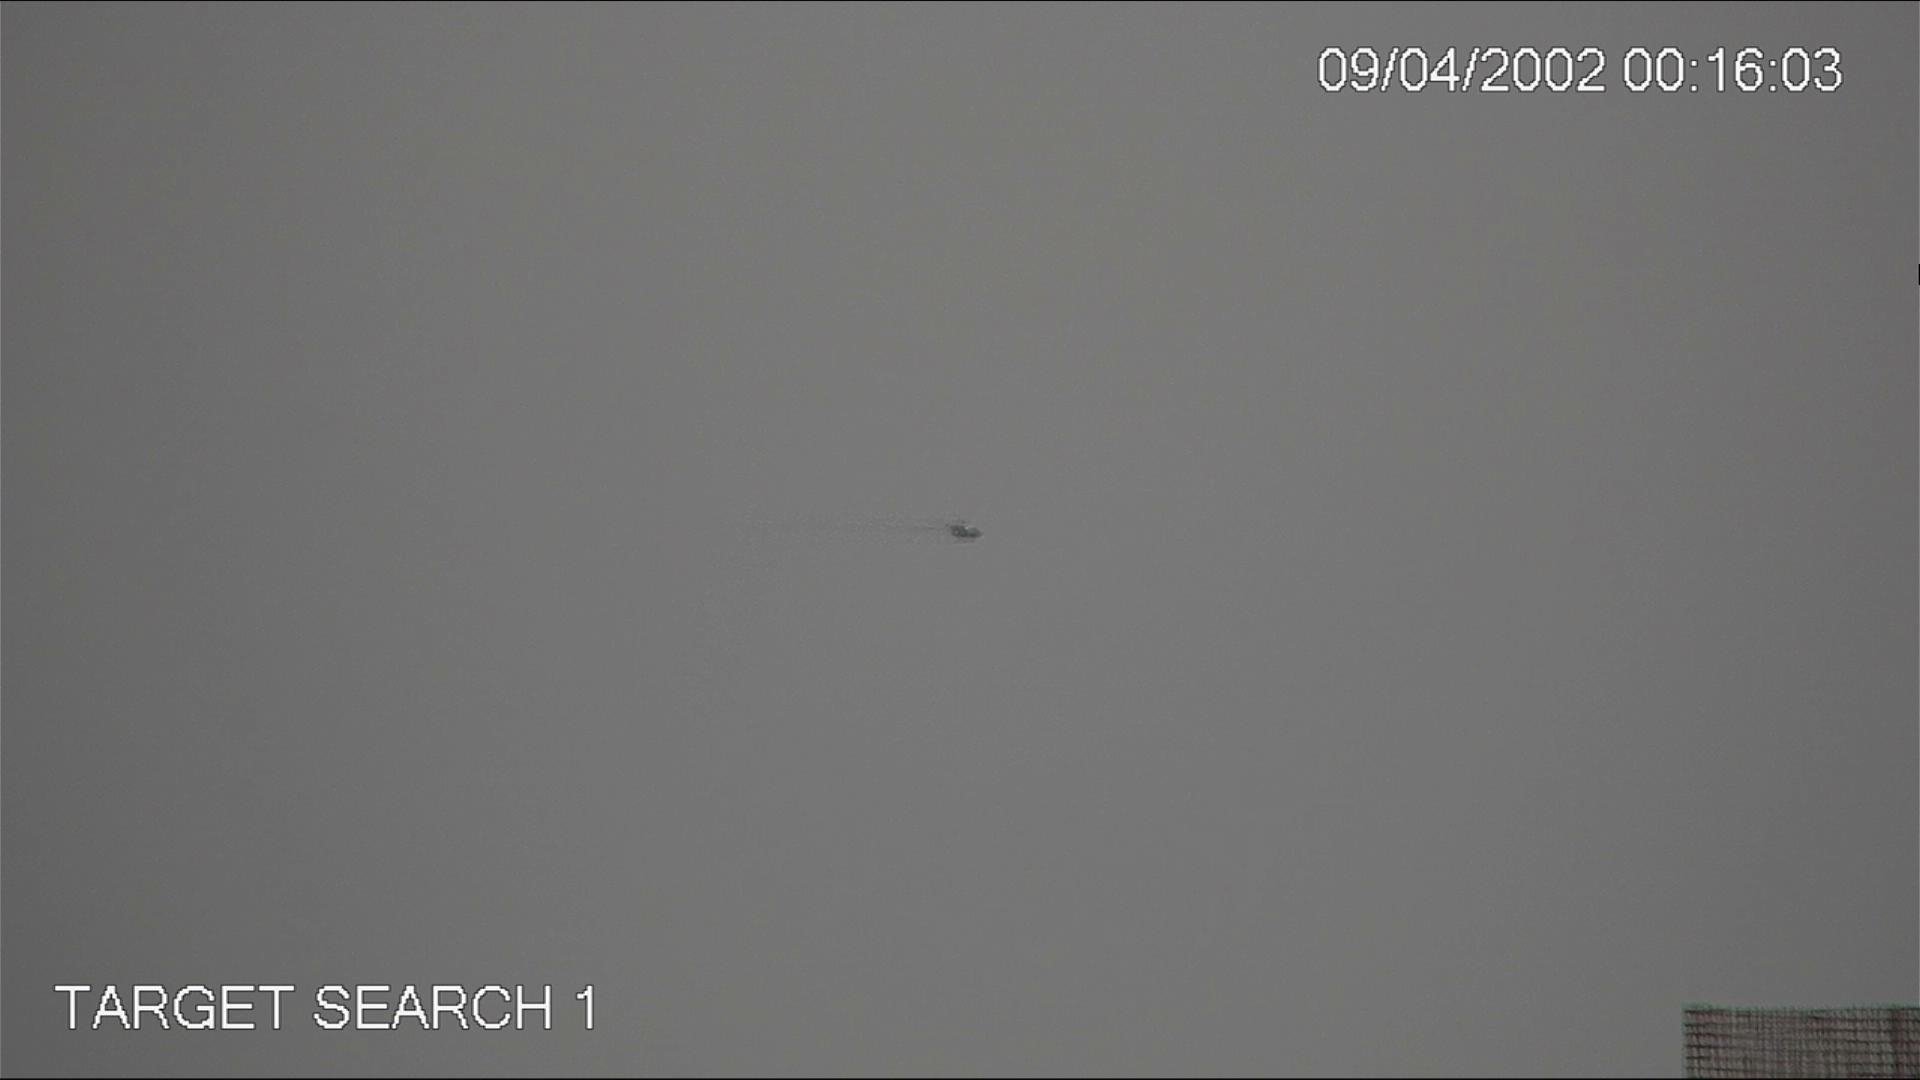SU_30: (945, 521, 993, 543)
